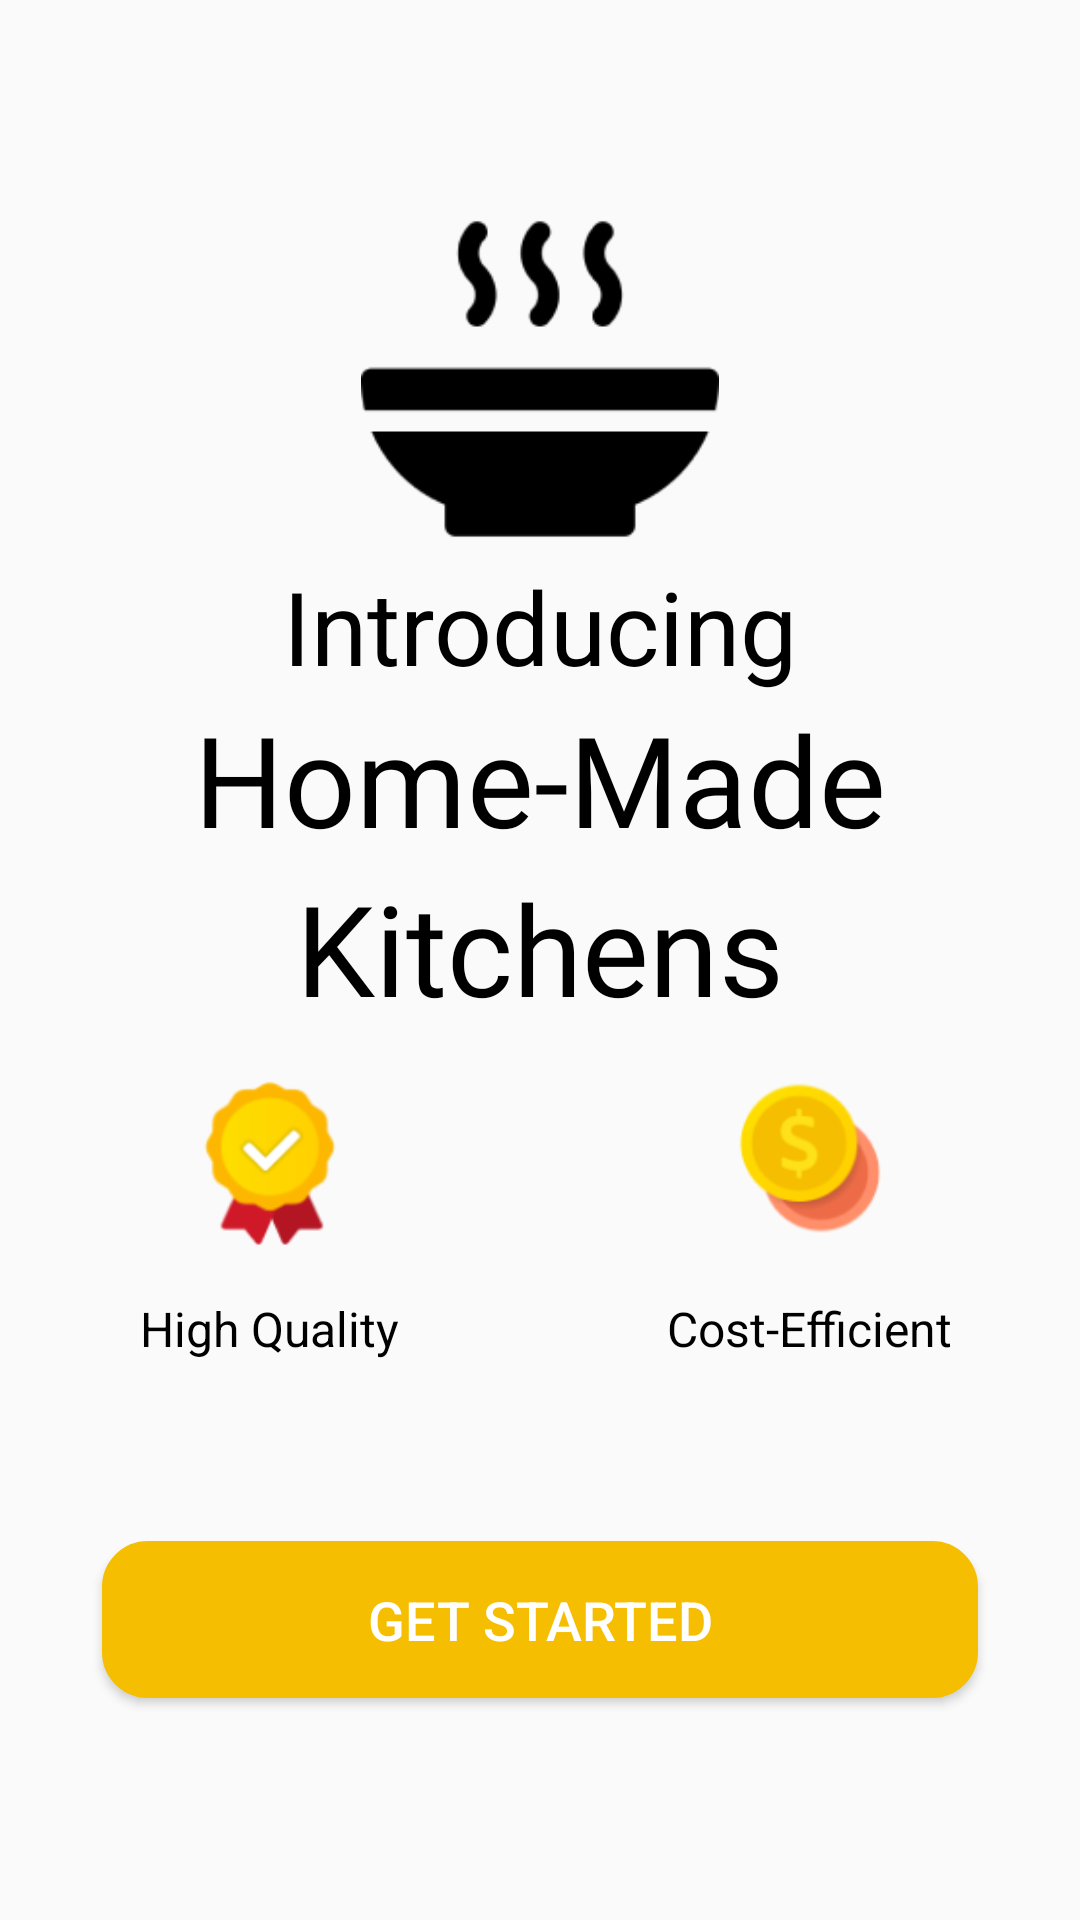

Named icons in this screenshot (1080×1920) and their bounding boxes, (x1, y1, x2, y2):
expensive price: (739, 1083, 880, 1232)
guarante: (204, 1082, 336, 1245)
hot food: (361, 221, 719, 537)
